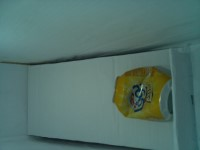kaleng: (114, 66, 173, 120)
